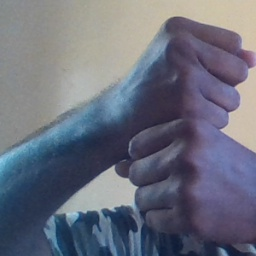G: (126, 13, 256, 242)
